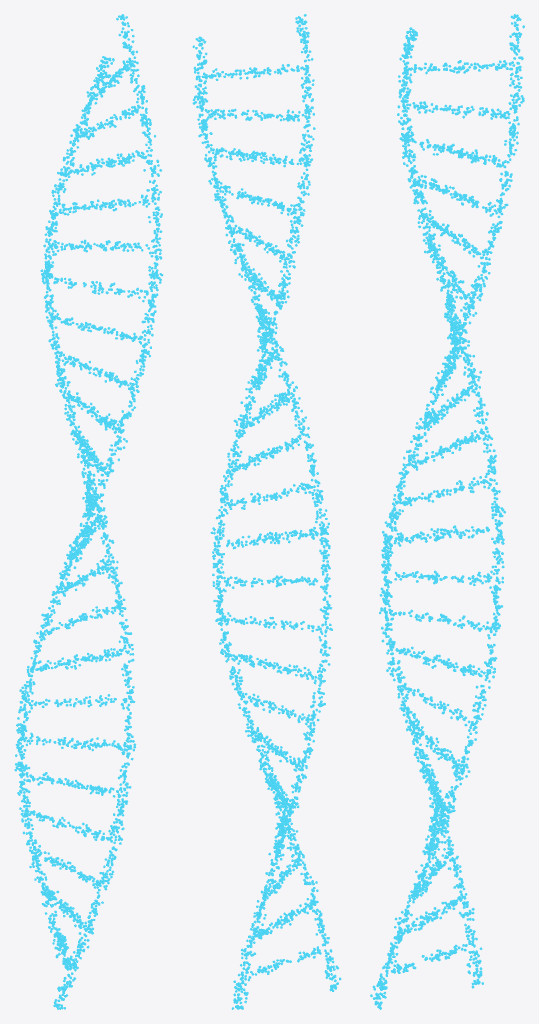
File: dna.glb
The picture shows the model from 3 angles, left to right: view 1: azimuth 30°, elevation 25°; view 2: azimuth 150°, elevation 25°; view 3: azimuth 330°, elevation 25°; orthographic projection. The views are drawn at different scales.
Visible parts, largest first — view 1: Sphere.3514, Sphere.3514_Particle_1_0.001, Sphere.3514_Particle_1_0.002; view 2: Sphere.3514, Sphere.3514_Particle_1_0.001, Sphere.3514_Particle_1_0.002; view 3: Sphere.3514, Sphere.3514_Particle_1_0.001, Sphere.3514_Particle_1_0.002.
Part boxes in pixels (x1=…): Sphere.3514: x1=14, y1=15, x2=162, y2=1009; Sphere.3514_Particle_1_0.001: x1=16, y1=14, x2=161, y2=1009; Sphere.3514_Particle_1_0.002: x1=17, y1=22, x2=163, y2=998; Sphere.3514: x1=192, y1=16, x2=338, y2=1009; Sphere.3514_Particle_1_0.001: x1=194, y1=14, x2=341, y2=1009; Sphere.3514_Particle_1_0.002: x1=195, y1=22, x2=336, y2=1007; Sphere.3514: x1=372, y1=14, x2=524, y2=1009; Sphere.3514_Particle_1_0.001: x1=370, y1=14, x2=523, y2=1005; Sphere.3514_Particle_1_0.002: x1=375, y1=22, x2=522, y2=997.
Bounding box in the file's own units: 1.55 × 10.91 × 1.36.
